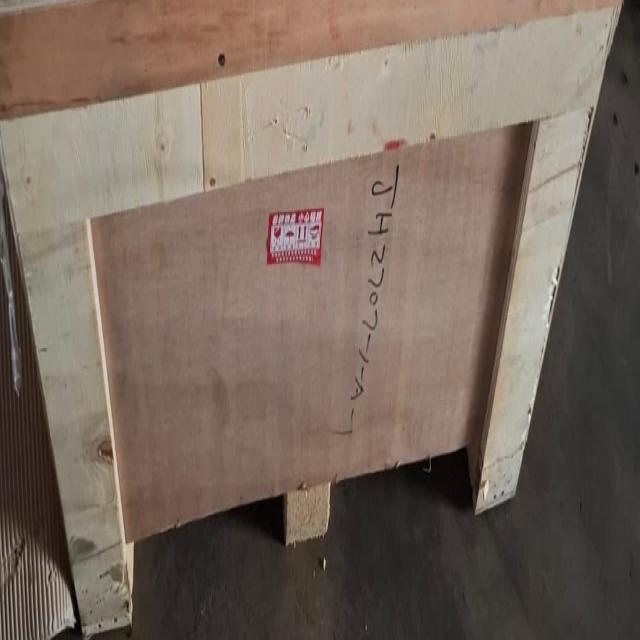fragile_label: (272, 220, 283, 253)
keep_dry_label: (284, 218, 296, 258)
this_side_up_label: (297, 212, 308, 260)
wooden_box: (0, 0, 632, 625)
